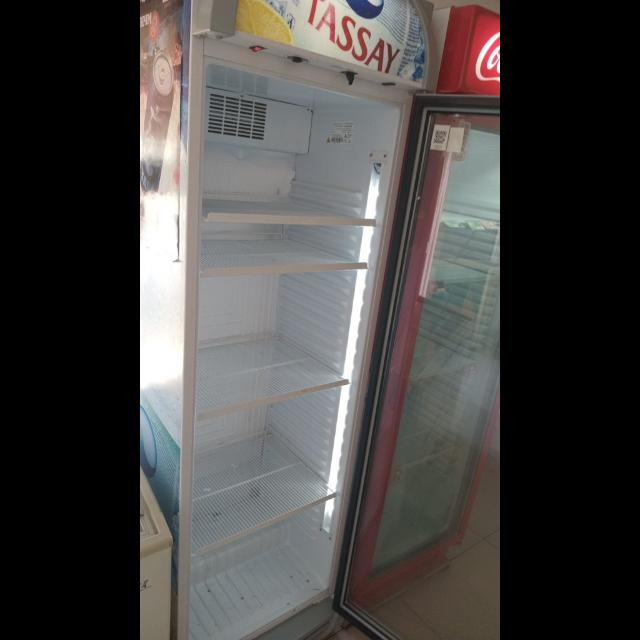Cooling-Display: (177, 1, 429, 640)
